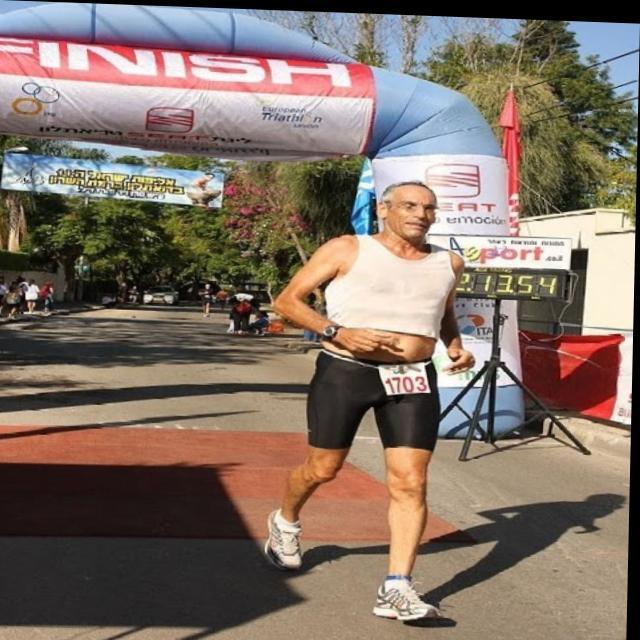dorsal: (371, 358, 438, 393)
